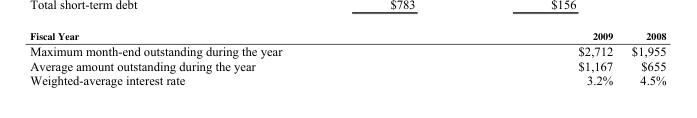table: (29, 28, 665, 86)
table column: (29, 28, 429, 86), (429, 28, 621, 86), (621, 28, 665, 86)
table column header: (29, 28, 665, 43)
table row: (29, 28, 665, 43), (29, 43, 665, 58), (29, 58, 665, 72), (29, 72, 665, 86)
